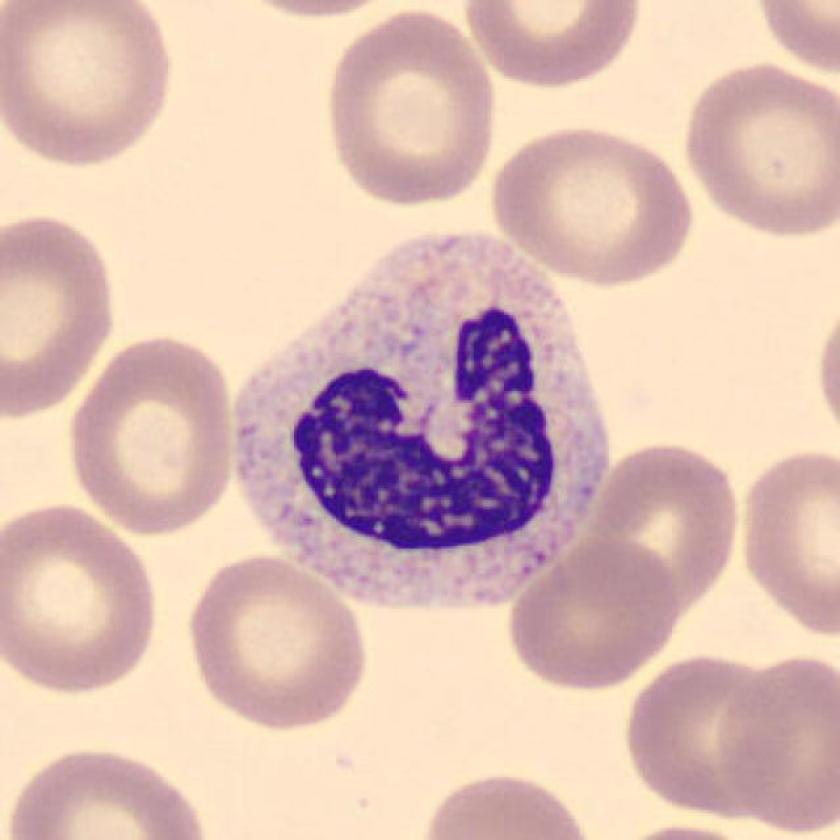neutrophil: (231, 233, 613, 601)
